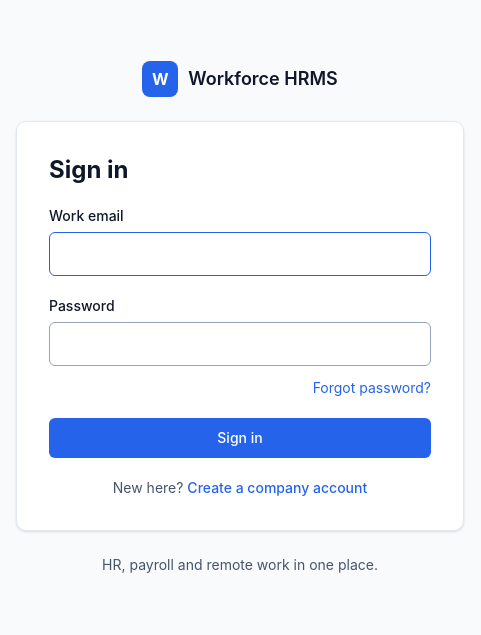
Test: unverified email offers to resend the link
The image size is (481, 635).
In the field labelled "Work email": point(240, 254) [49, 232, 431, 276], type "new@example.com"
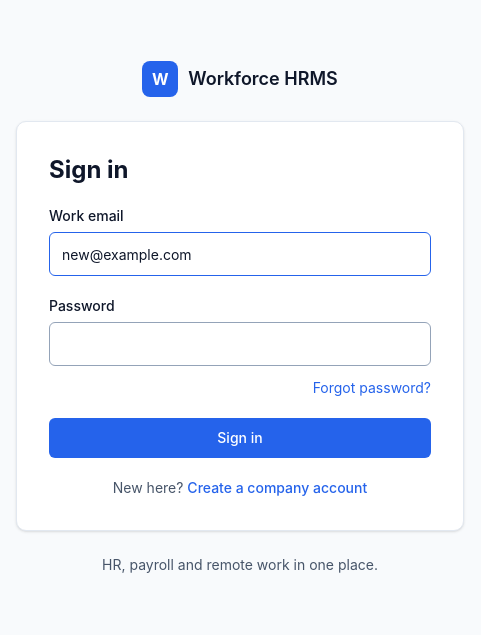
In the password field labelled "Password": point(240, 344) [49, 322, 431, 366], type "violet-tractor-91-lamp"
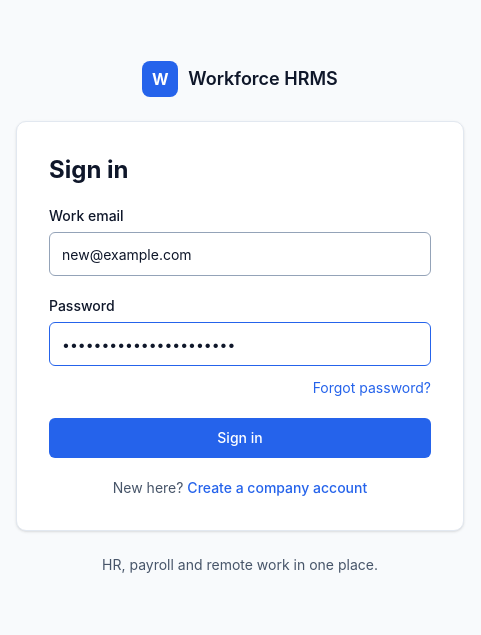
Click the button "Sign in": point(240, 438) [49, 418, 431, 458]
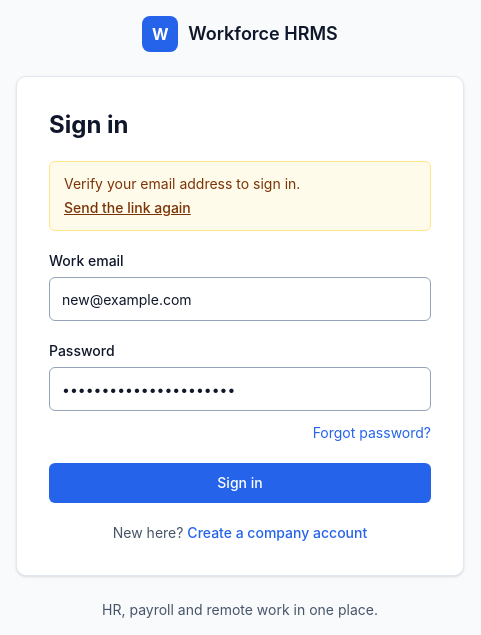
Click the button "Send the link again": point(127, 208) [64, 198, 191, 218]
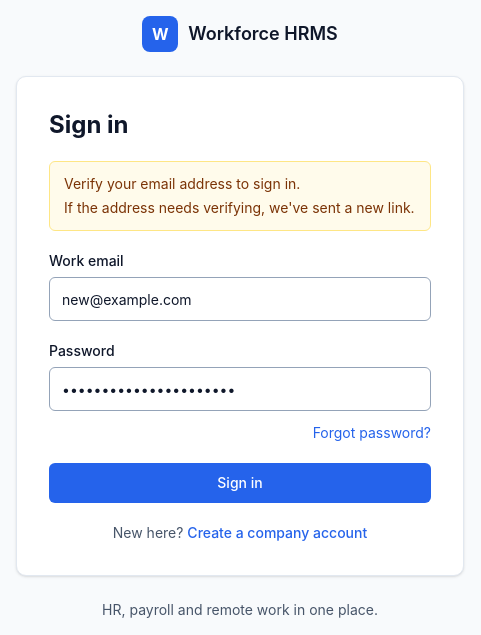
Expected: the text "If the address needs verifying, we've sent a new link." is shown, [64, 198, 416, 218]
